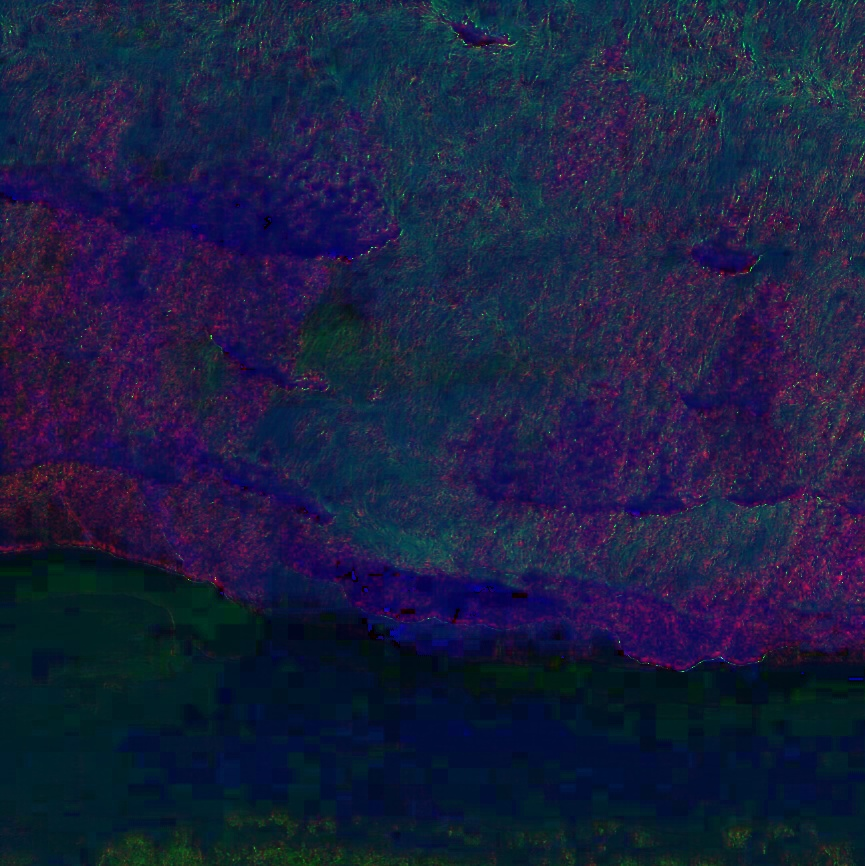rip_current: (237, 131, 658, 593)
